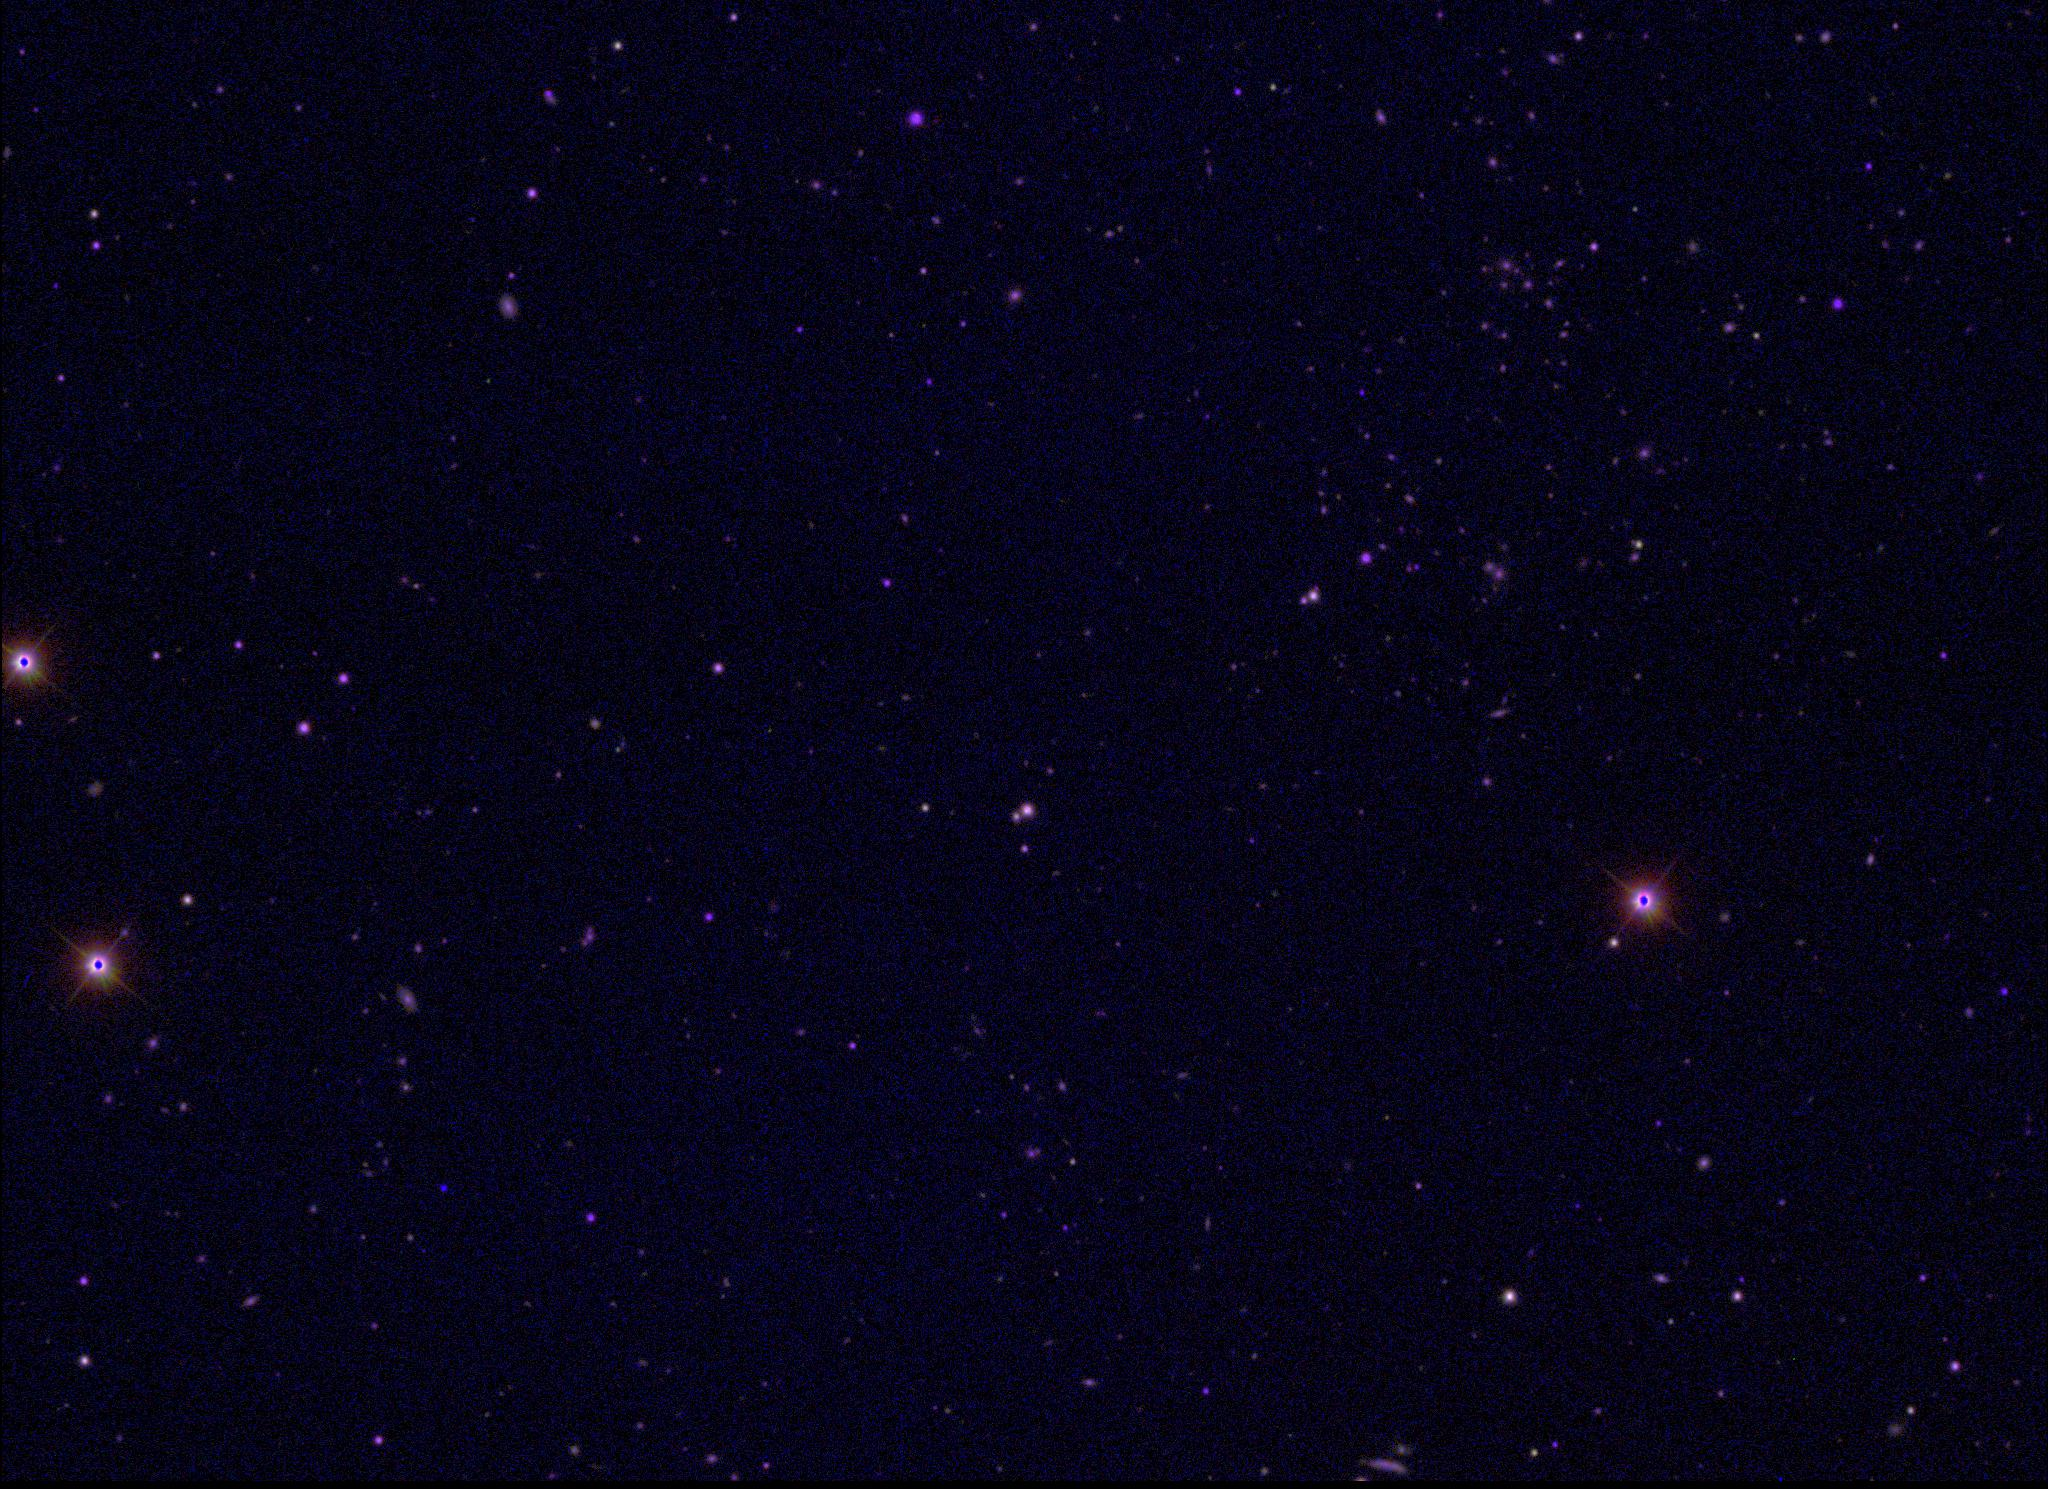L: (436, 1180, 450, 1195)
